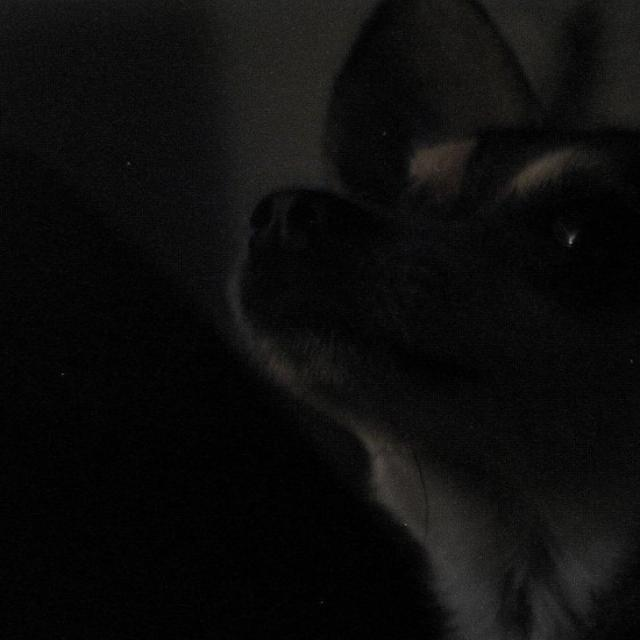Dog: (238, 132, 640, 623)
